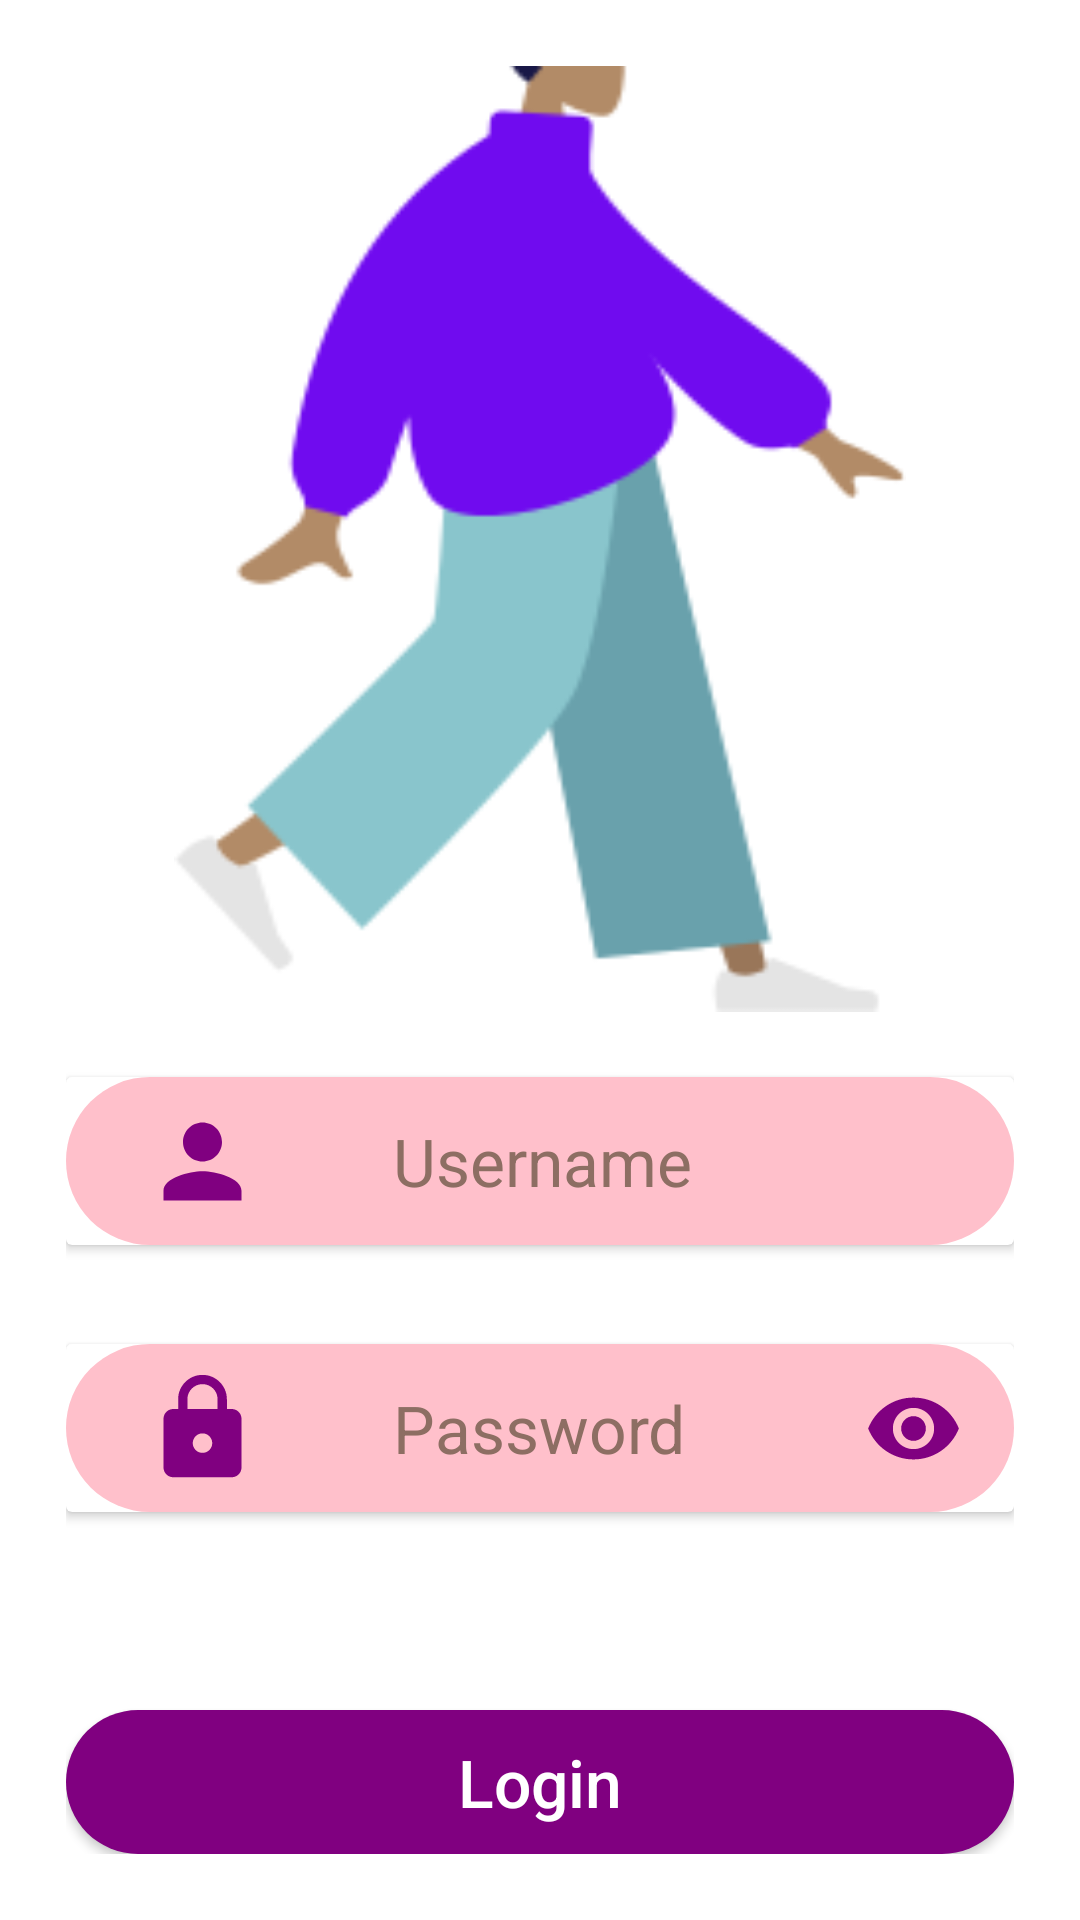

Named icons in this screenshot (1080w x 1920h) and their bounding boxes, (left=x1, top=y1, right=x2, bottom=y2):
lock: (left=163, top=1375, right=242, bottom=1478)
person: (left=163, top=1122, right=242, bottom=1201)
